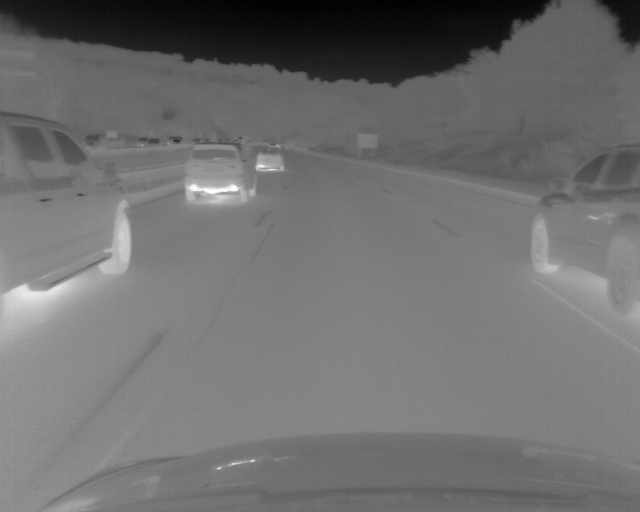car: (1, 112, 134, 302), (524, 142, 640, 318), (184, 142, 258, 201), (255, 146, 285, 172), (83, 134, 104, 148), (146, 138, 161, 147), (138, 137, 145, 148)
